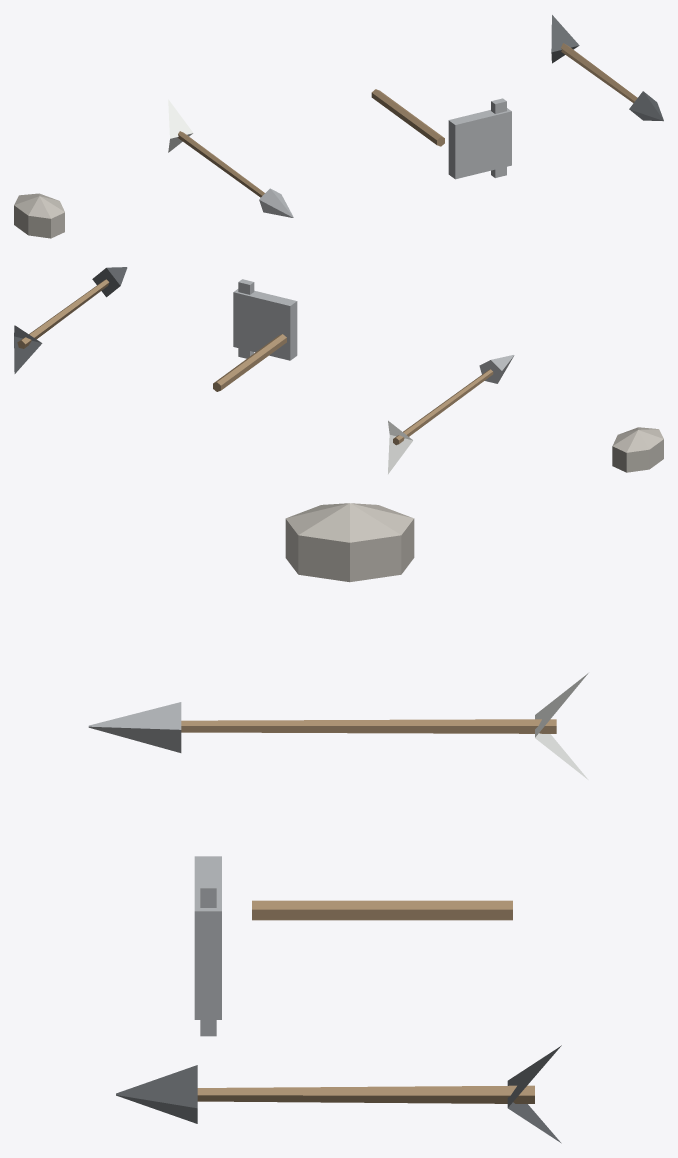
The model's file is proyectiles.glb.
3 renders of one model, top to bottom at view 1: azimuth 30°, elevation 25°; view 2: azimuth 150°, elevation 25°; view 3: azimuth 270°, elevation 25°, orthographic. The views are drawn at different scales.
Visible parts, largest first — view 1: hacha_arrojadiza, flecha_orca, flecha_elfica, piedra; view 2: hacha_arrojadiza, flecha_orca, flecha_elfica, piedra; view 3: hacha_arrojadiza, flecha_orca, piedra, flecha_elfica.
Boxes of the visible parts, x1,y1,x2,y2 form: hacha_arrojadiza: (371, 89, 511, 179); flecha_orca: (551, 15, 663, 121); flecha_elfica: (168, 99, 293, 217); piedra: (14, 193, 64, 238); hacha_arrojadiza: (213, 279, 297, 391); flecha_orca: (14, 267, 127, 373); flecha_elfica: (388, 355, 514, 474); piedra: (612, 427, 663, 472); hacha_arrojadiza: (194, 856, 512, 1036); flecha_orca: (116, 1045, 561, 1143); piedra: (285, 503, 414, 582); flecha_elfica: (88, 673, 588, 779).
Bounding box in the file's own units: 2.54 × 0.3 × 0.92.
